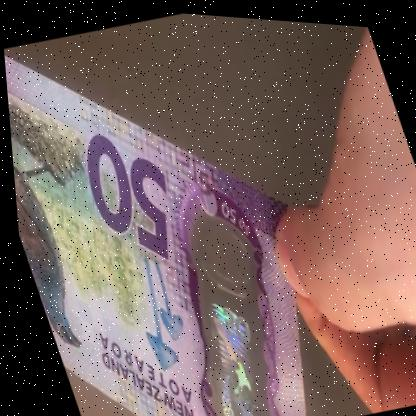50B: (153, 211, 301, 415)
